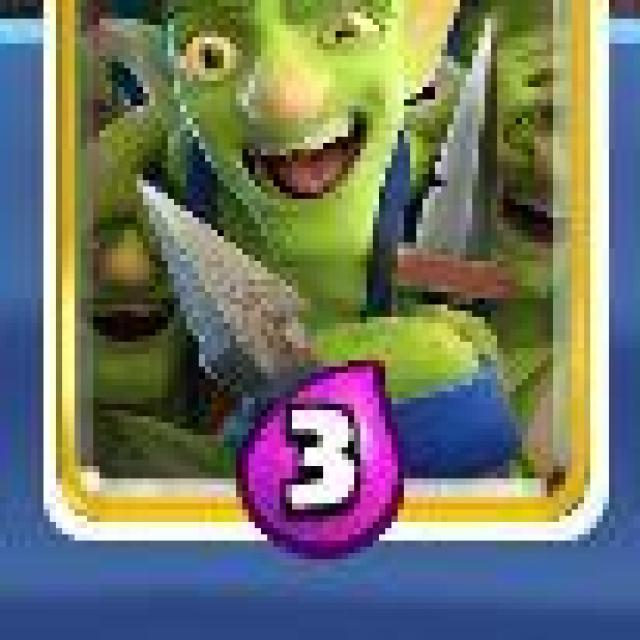Goblin_Gang: (44, 0, 613, 548)
